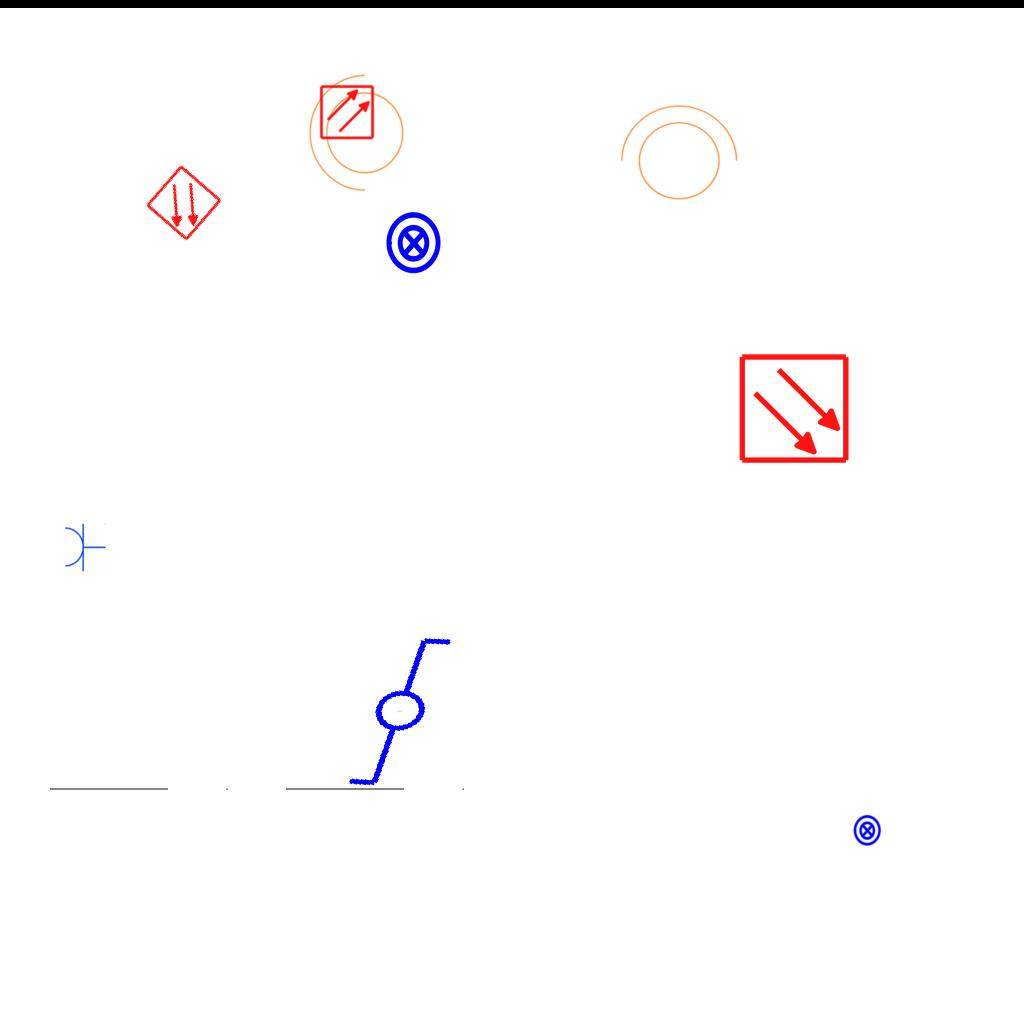RMO_Rauchmelder_optischer: (738, 352, 851, 465), (144, 163, 224, 243), (319, 84, 375, 140)
Scheinwerfer_fuer_Alarmbeleuchtung: (610, 100, 742, 212), (304, 70, 416, 202)
Schukosteckdose_einfach: (63, 522, 106, 572)
Taster_beleuchtet: (381, 210, 447, 276), (851, 814, 884, 847)
Wechselschalter: (315, 623, 502, 799)
